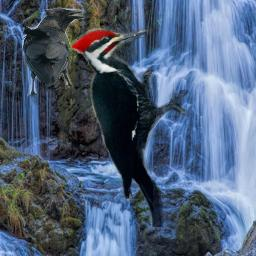Crow: (22, 5, 85, 105)
Woodpecker: (71, 25, 190, 227)
